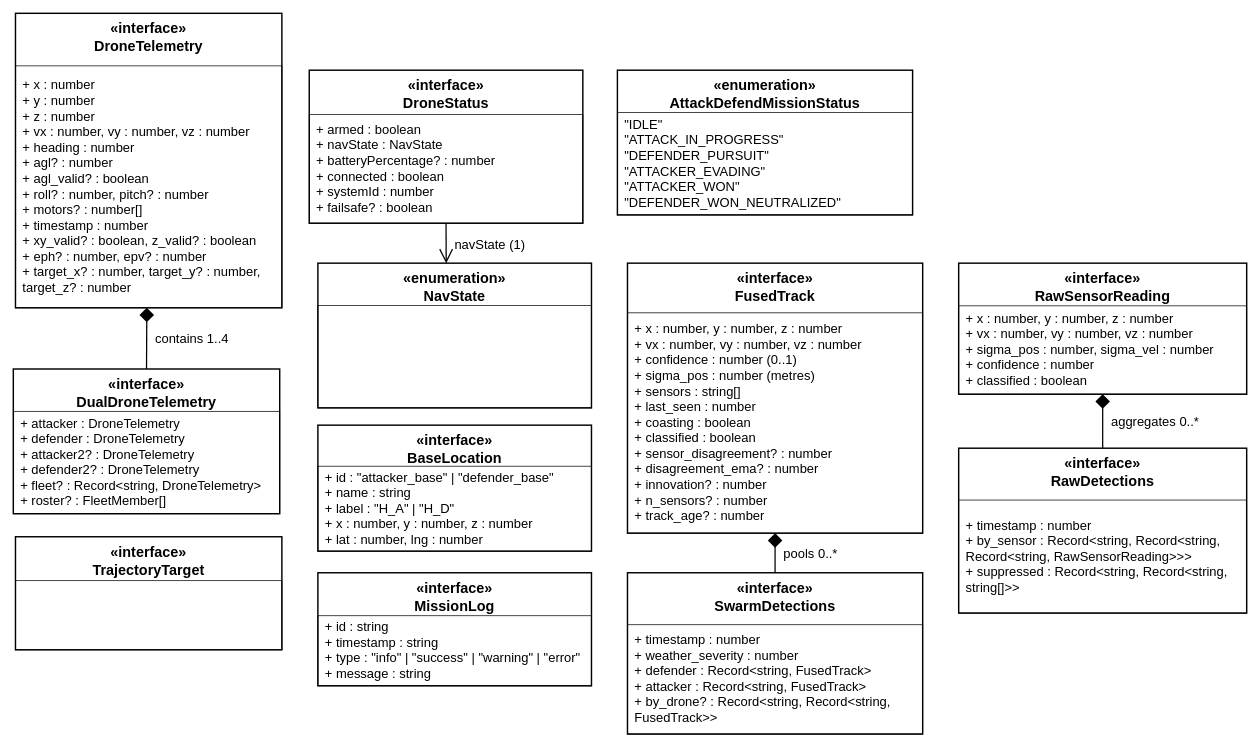
The diagram is 1259 pixels wide and 747 high, and some of its shapes have lost their labels. The centre of each missing label's shape, as x and y in pixels:
"OFFBOARD" "MANUAL" "AUTO_LAND" "AUTO_RTL" "HOLD" "UNKNOWN": (454,356)
+ x : number + y : number + z : number + yaw : number: (148,615)
